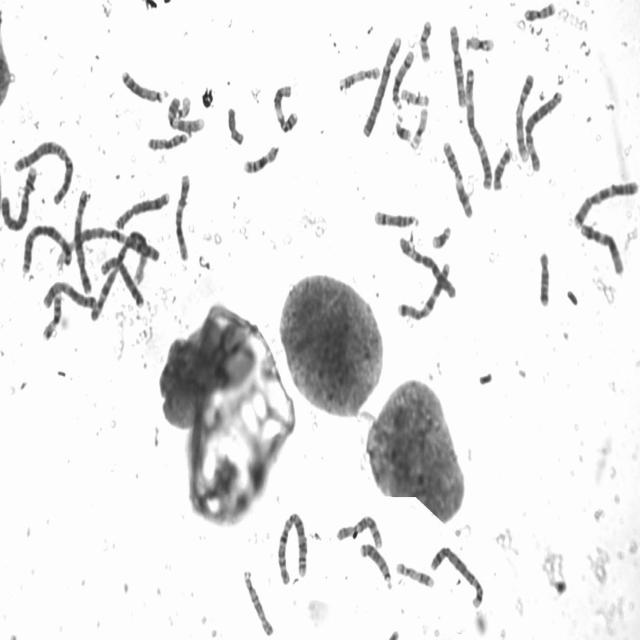A1: (87, 227, 160, 325), (54, 227, 160, 273)
A2: (12, 136, 74, 206), (275, 509, 309, 585)
A3: (462, 65, 494, 192), (19, 221, 74, 275)
B4: (360, 32, 402, 139), (0, 163, 39, 233)
B5: (429, 542, 485, 612), (72, 187, 94, 294)
C10: (334, 512, 384, 549), (447, 22, 468, 108)
C11: (440, 138, 475, 220), (271, 81, 299, 136)
C12: (578, 220, 625, 276), (173, 171, 192, 263)
C6: (398, 234, 458, 300), (522, 88, 564, 170)
C7: (395, 258, 452, 322), (570, 178, 639, 230)
C8: (98, 254, 146, 308), (114, 188, 171, 231)
C9: (513, 71, 535, 163), (165, 92, 206, 134)
D13: (358, 539, 395, 591), (120, 67, 168, 104)
D14: (390, 47, 415, 111), (372, 207, 420, 229)
D15: (240, 567, 274, 637), (145, 128, 192, 152)
E16: (241, 142, 281, 176), (40, 290, 63, 342)
E17: (337, 64, 381, 92), (394, 560, 435, 590)
E18: (536, 248, 552, 309), (492, 144, 512, 192)
F19: (409, 104, 428, 152), (463, 33, 495, 53)
F20: (522, 0, 558, 21), (418, 17, 433, 63)
G21: (430, 222, 452, 250), (393, 114, 412, 142)
G22: (399, 88, 429, 109), (171, 93, 191, 121)
X: (41, 279, 97, 311)
Y: (225, 106, 245, 147)
